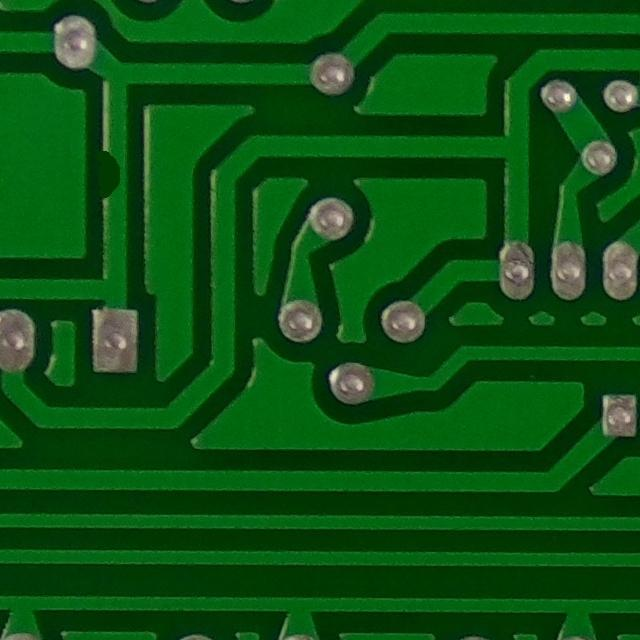mouse_bite: (86, 137, 140, 214)
